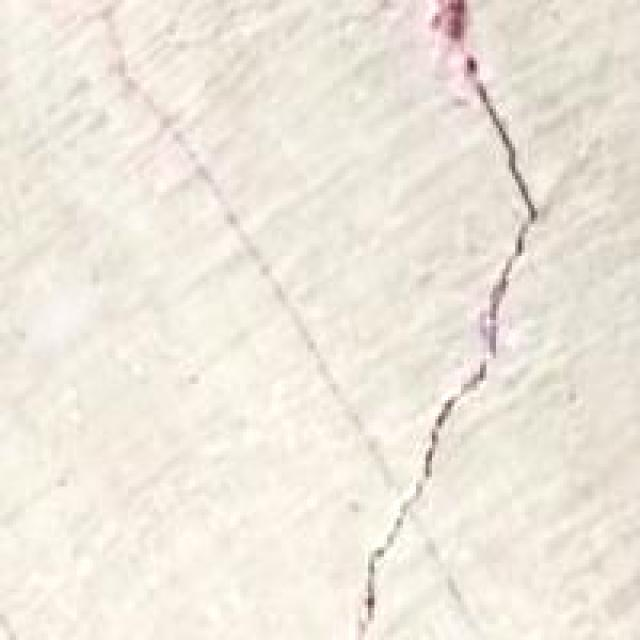moderate crack: (40, 404, 240, 530), (460, 73, 533, 222), (392, 525, 496, 628)
severe crack: (51, 7, 532, 627)
